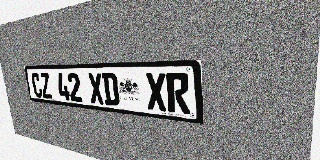2: (67, 73, 82, 102)
4: (56, 73, 71, 101)
C: (31, 73, 43, 98)
D: (101, 73, 120, 106)
R: (166, 73, 190, 114)
X: (145, 73, 167, 112), (87, 73, 105, 105)
Z: (39, 73, 52, 99)
